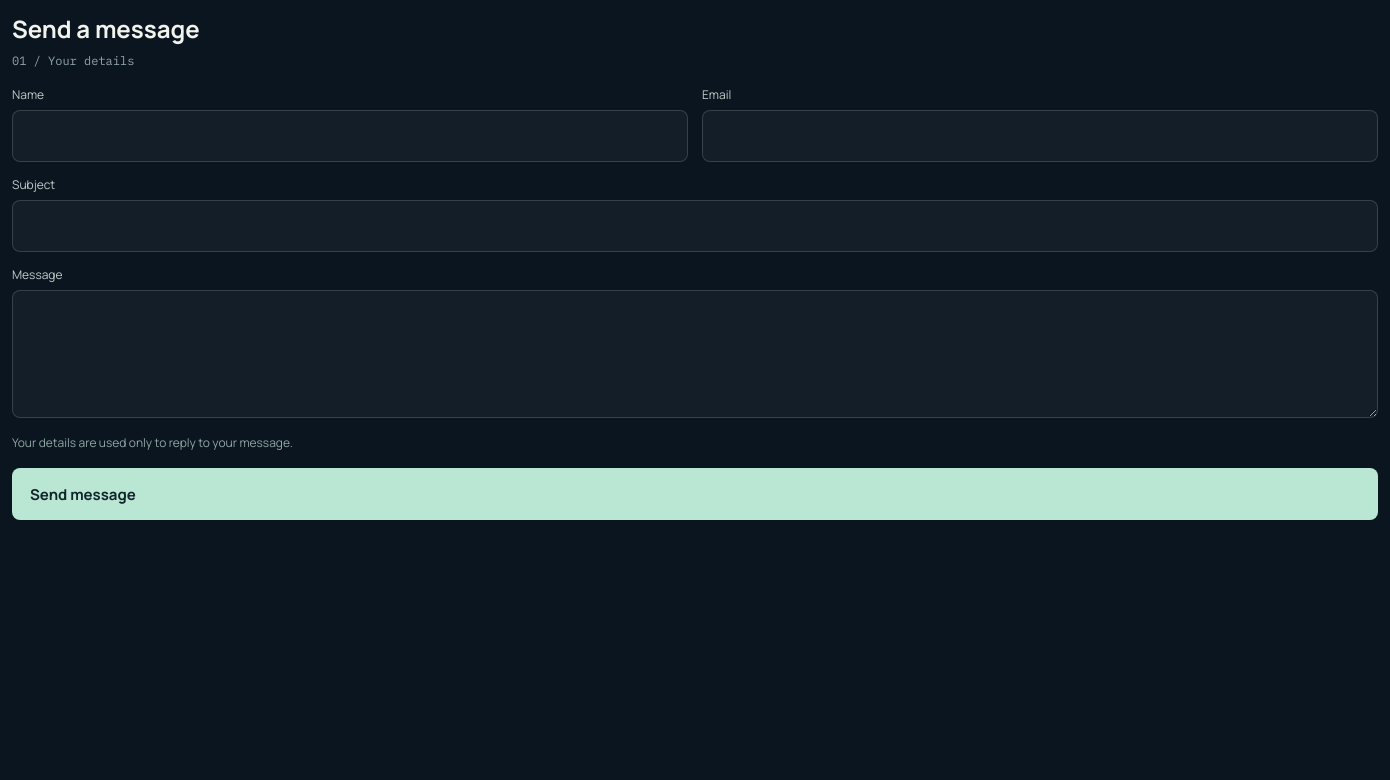
Test: records a successful contact lead without sending form contents
Step 1. Type "Private Visitor" into the field labelled "Name" → coordinates (350, 136), box [12,110,688,162]
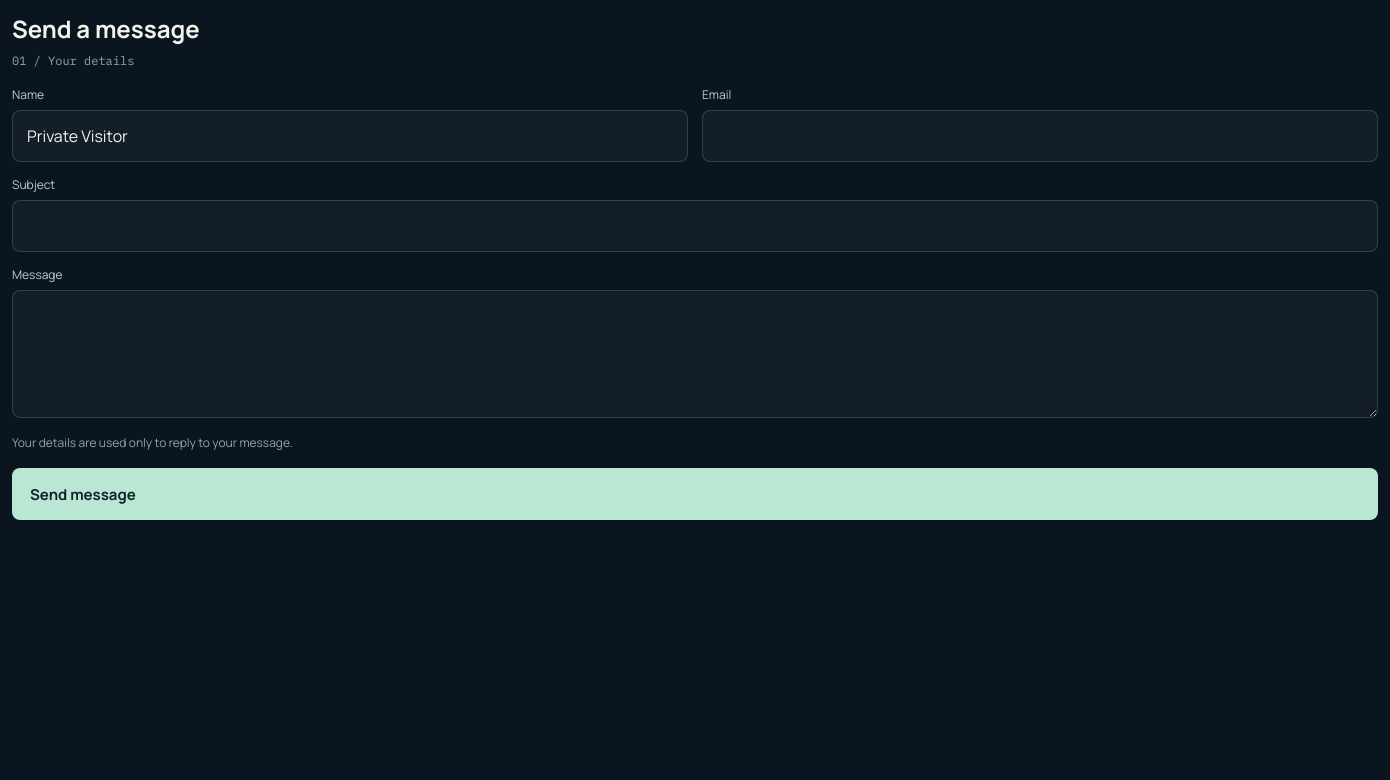
Step 2. Type "private@example.com" into the field labelled "Email" → coordinates (1040, 136), box [702,110,1378,162]
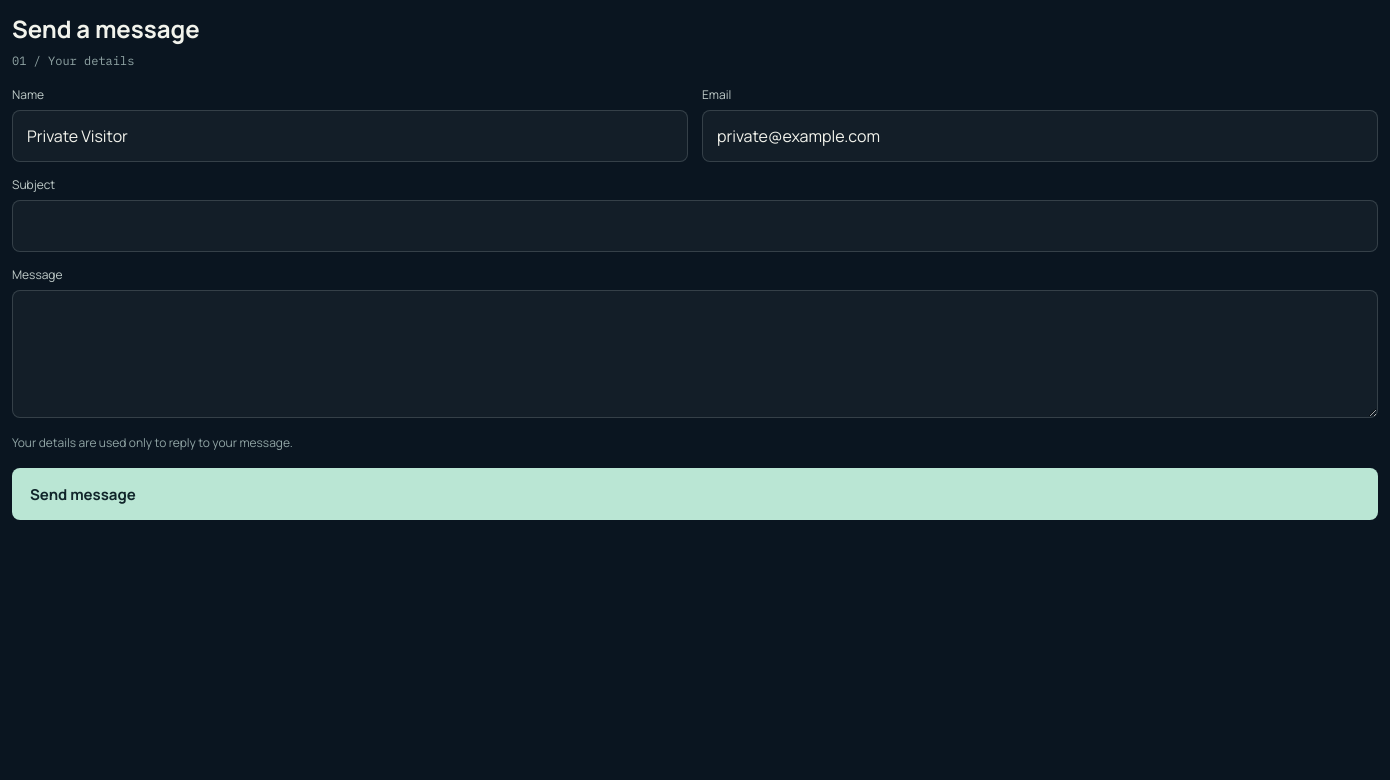
Step 3. Type "A private subject" into the field labelled "Subject" → coordinates (695, 226), box [12,200,1378,252]
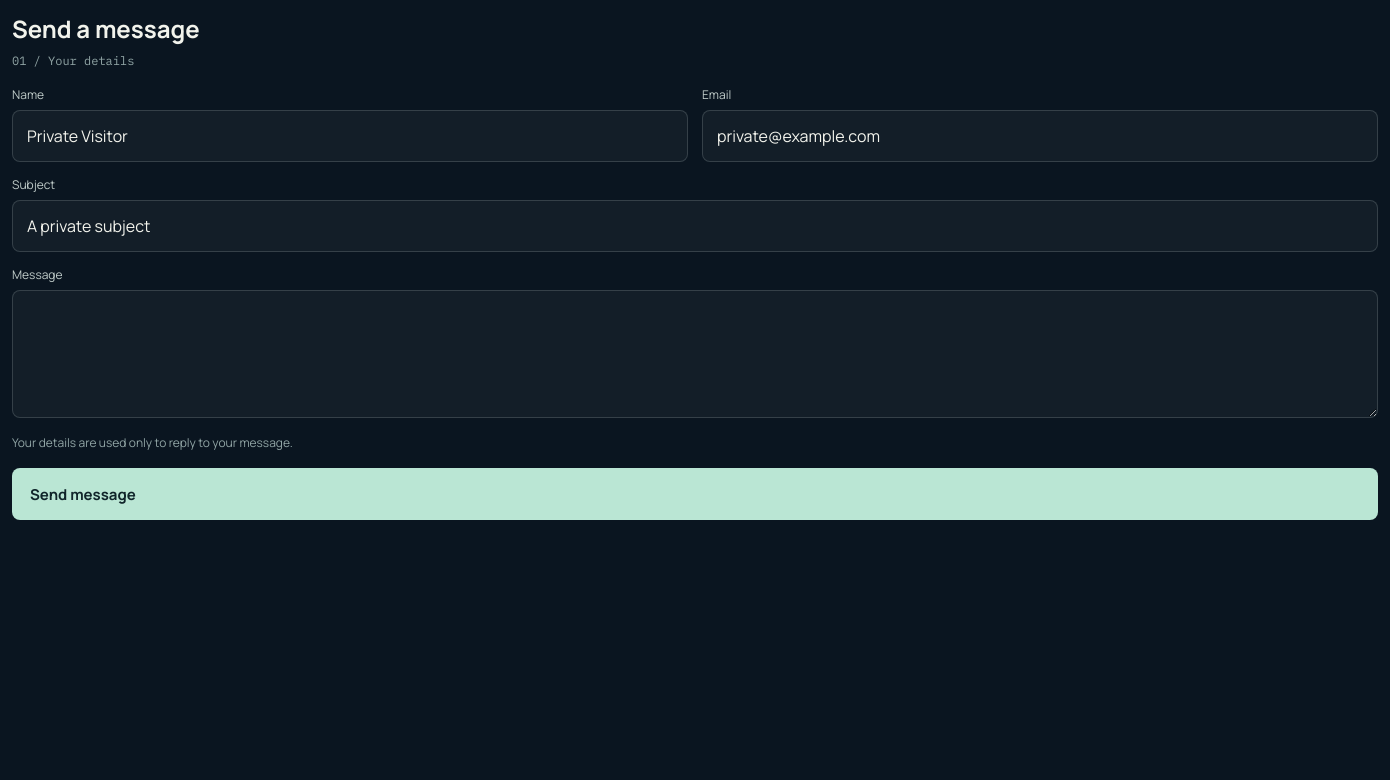
Step 4. Type "Private message content" into the text box labelled "Message" → coordinates (695, 354), box [12,290,1378,418]
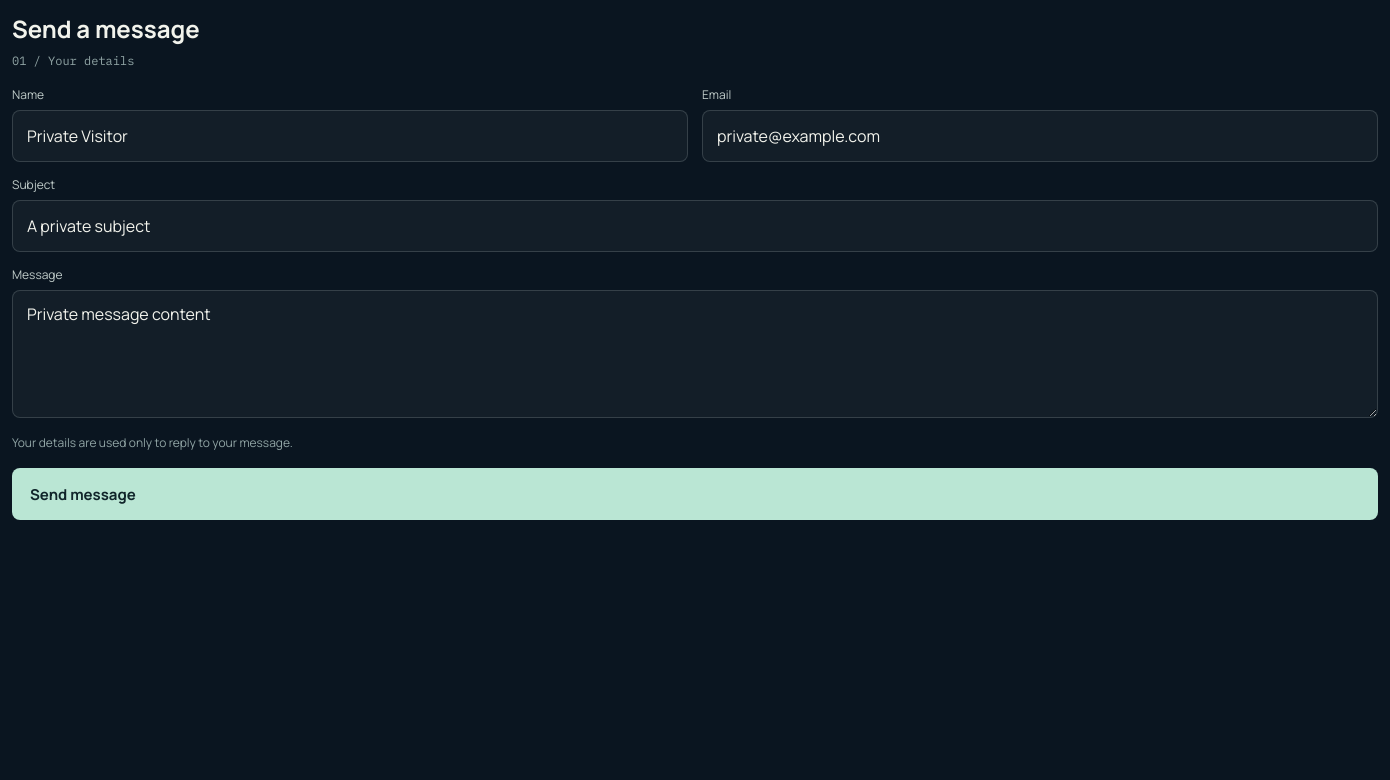
Step 5. Submit the form named "Send message"
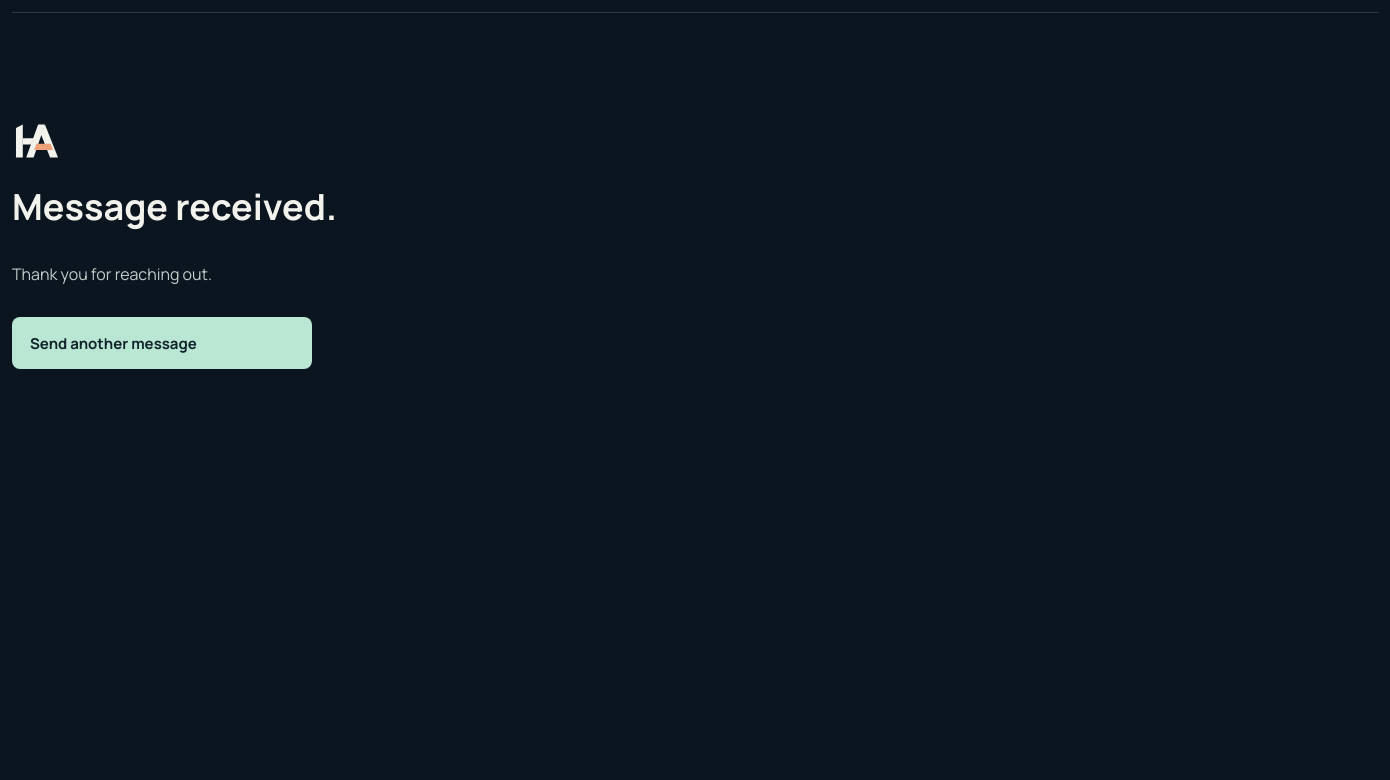
expect the heading "Message received." is shown: met, box [12,182,337,231]
